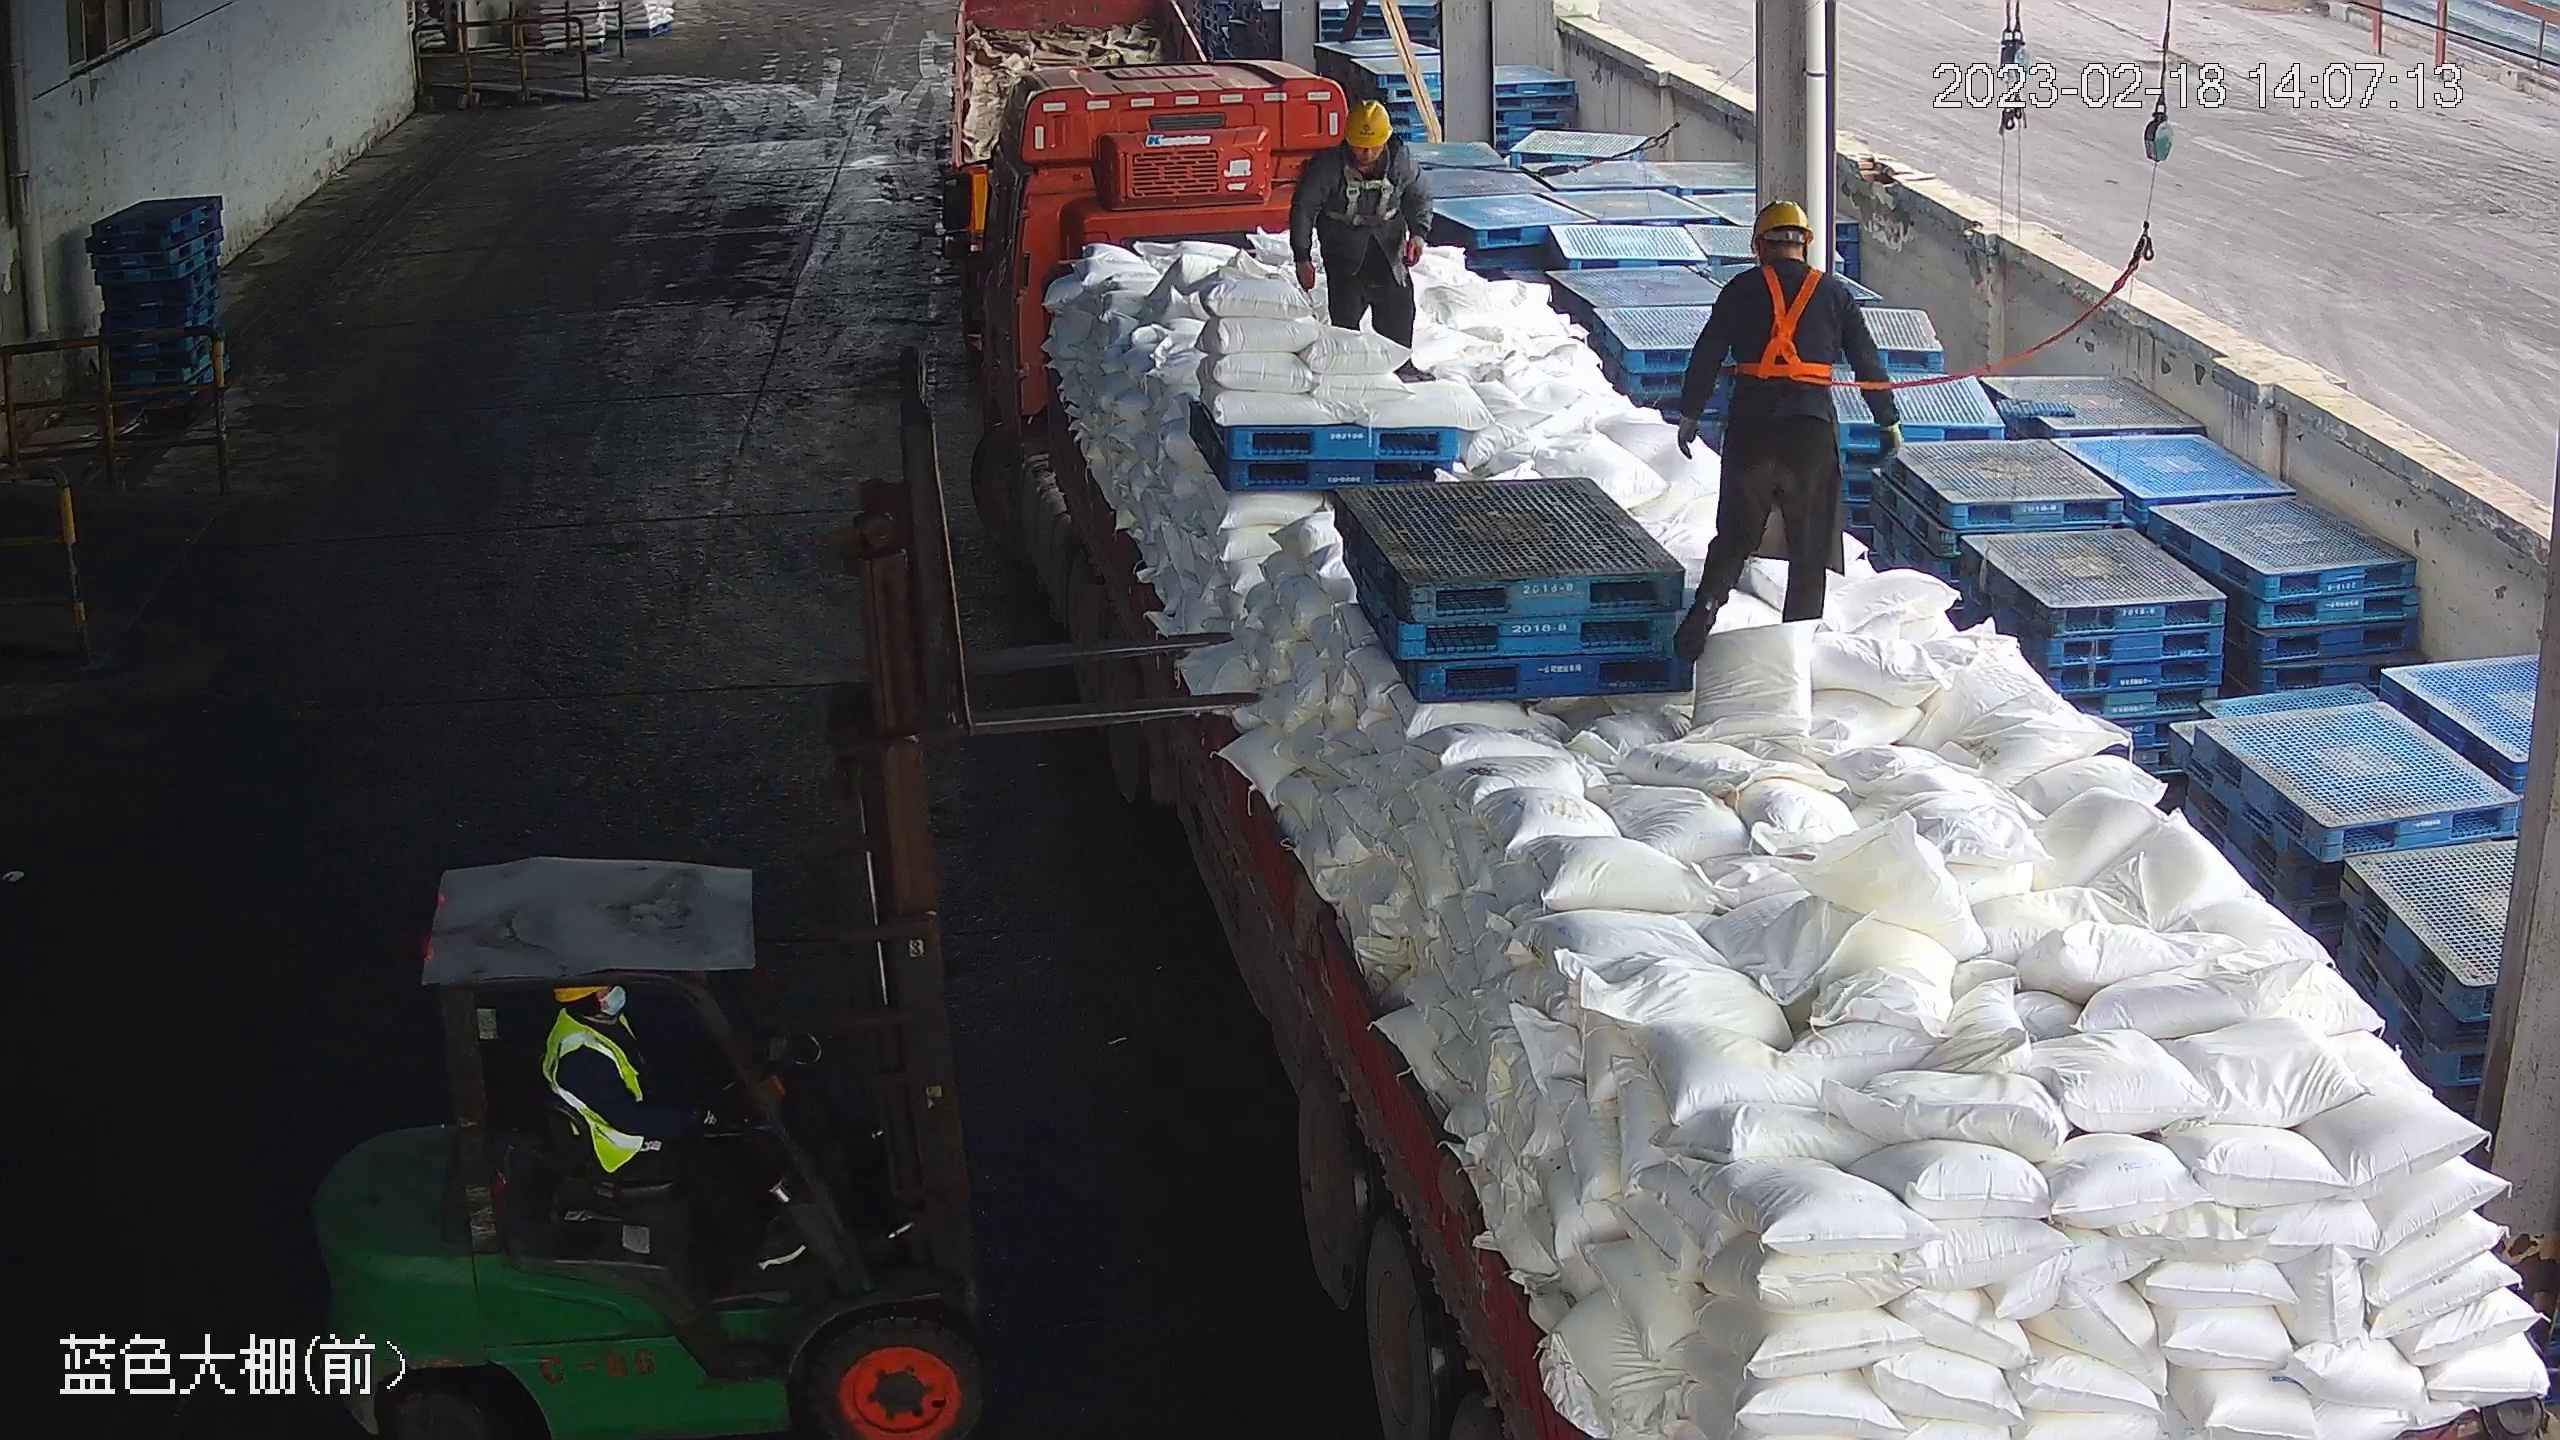belt: (1722, 263, 1896, 400), (1320, 158, 1401, 225)
head: (1715, 201, 1861, 355), (1310, 100, 1422, 200)
helmet: (1752, 199, 1814, 246), (1346, 101, 1392, 148)
people: (1670, 200, 1907, 666), (539, 979, 844, 1278), (1288, 98, 1439, 384)
truck: (930, 61, 2560, 1440)
